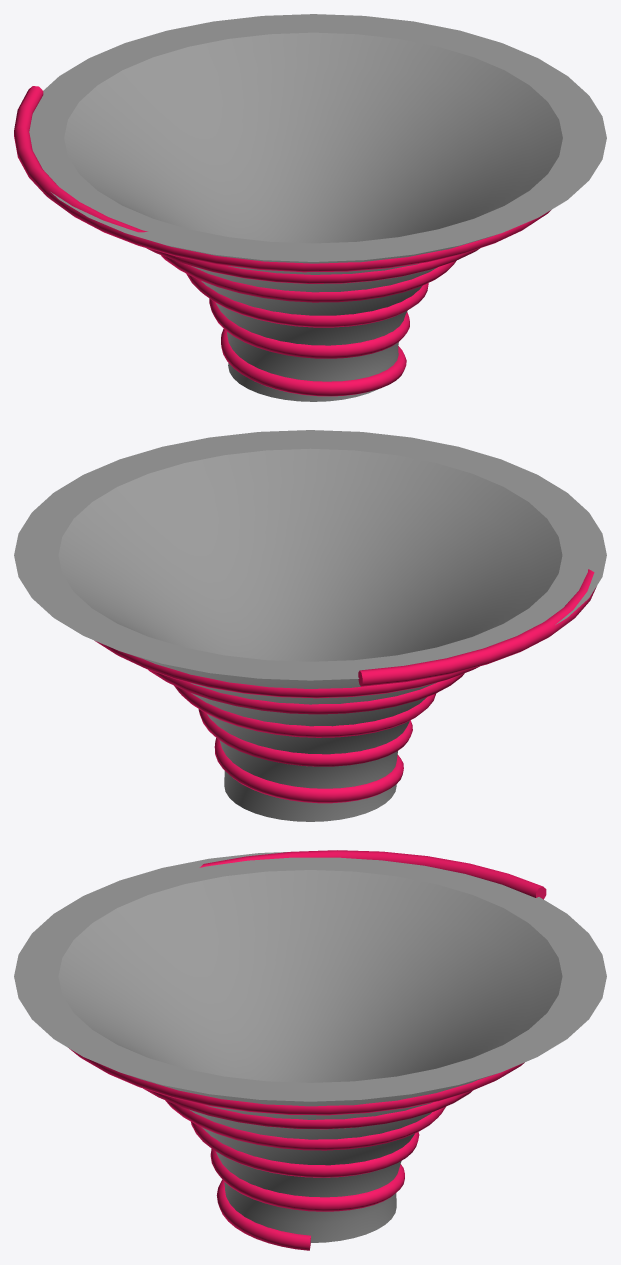
File: Pipe.FBX
The picture shows the model from 3 angles, top to bottom: view 1: azimuth 30°, elevation 25°; view 2: azimuth 150°, elevation 25°; view 3: azimuth 270°, elevation 25°; orthographic projection.
Parts seen in each view (by area): view 1: Tube001, Loft001; view 2: Tube001, Loft001; view 3: Tube001, Loft001.
Boxes of the visible parts, x1=… form: Tube001: x1=29, y1=14, x2=606, y2=401; Loft001: x1=14, y1=86, x2=550, y2=396; Tube001: x1=14, y1=430, x2=606, y2=821; Loft001: x1=94, y1=569, x2=596, y2=803; Tube001: x1=14, y1=852, x2=606, y2=1242; Loft001: x1=69, y1=850, x2=546, y2=1250.
Bounding box in the file's own units: 896 × 410 × 896.
